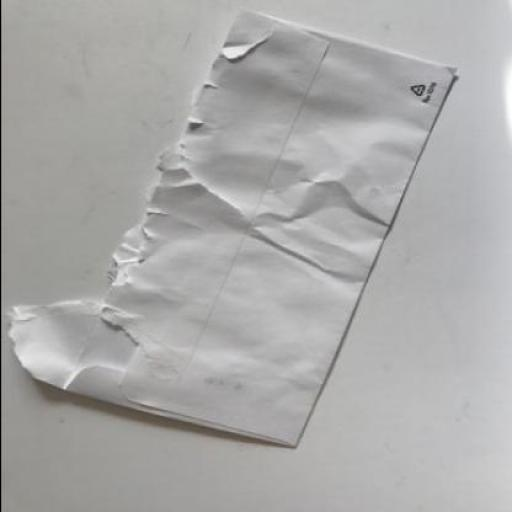paper: (11, 10, 452, 445)
